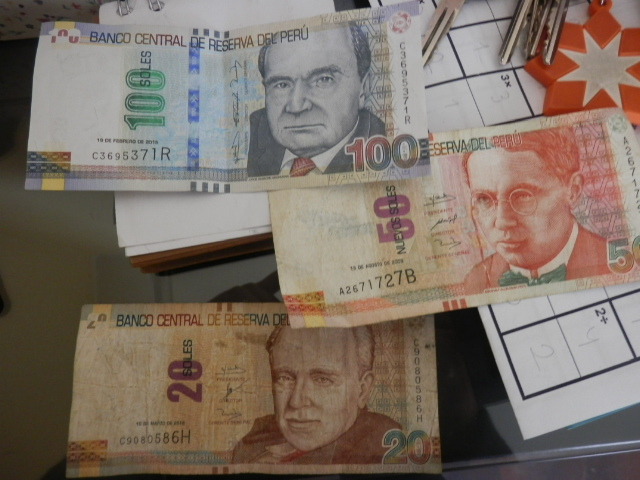B100: (19, 19, 440, 183)
B20: (73, 304, 448, 474)
B50: (266, 172, 640, 316)
